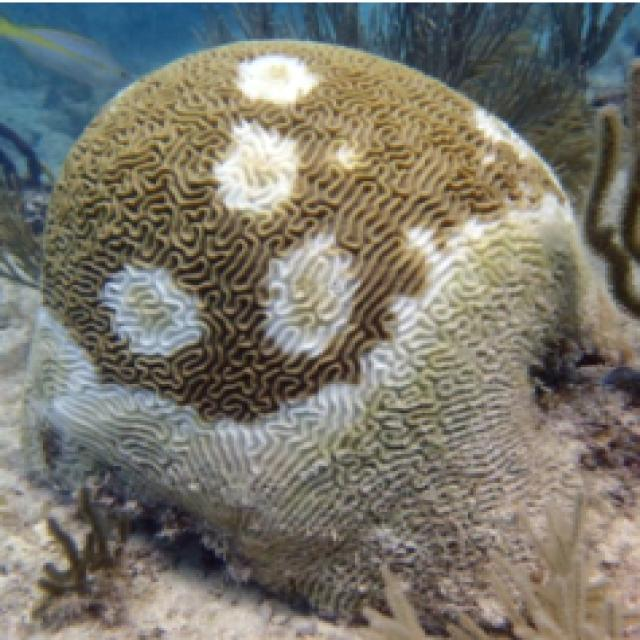Coral: (27, 35, 584, 632)
